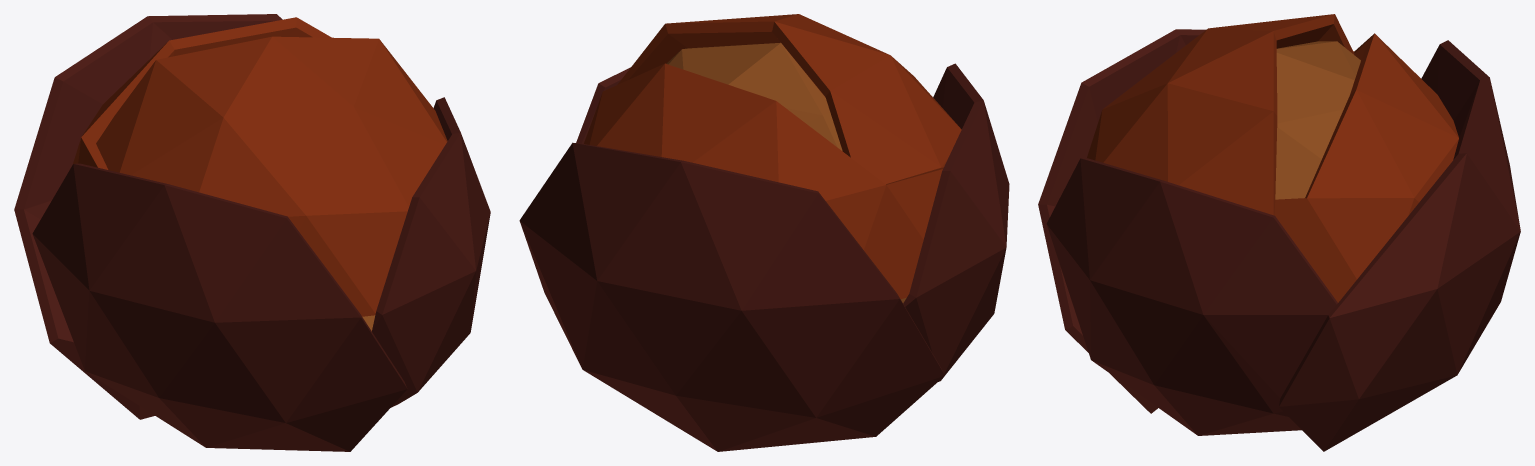
File: Cabbage_L_Died.fbx
3 renders of one model, left to right at view 1: azimuth 30°, elevation 25°; view 2: azimuth 150°, elevation 25°; view 3: azimuth 270°, elevation 25°, orthographic. The views are drawn at different scales.
Parts seen in each view (by area): view 1: Cabbage L Died; view 2: Cabbage L Died; view 3: Cabbage L Died.
Part boxes in pixels (x1=…): Cabbage L Died: x1=14, y1=14, x2=490, y2=451; Cabbage L Died: x1=519, y1=14, x2=1009, y2=451; Cabbage L Died: x1=1038, y1=14, x2=1520, y2=451.
Size of the model in its own units: 50.18 by 45.16 by 52.73.
